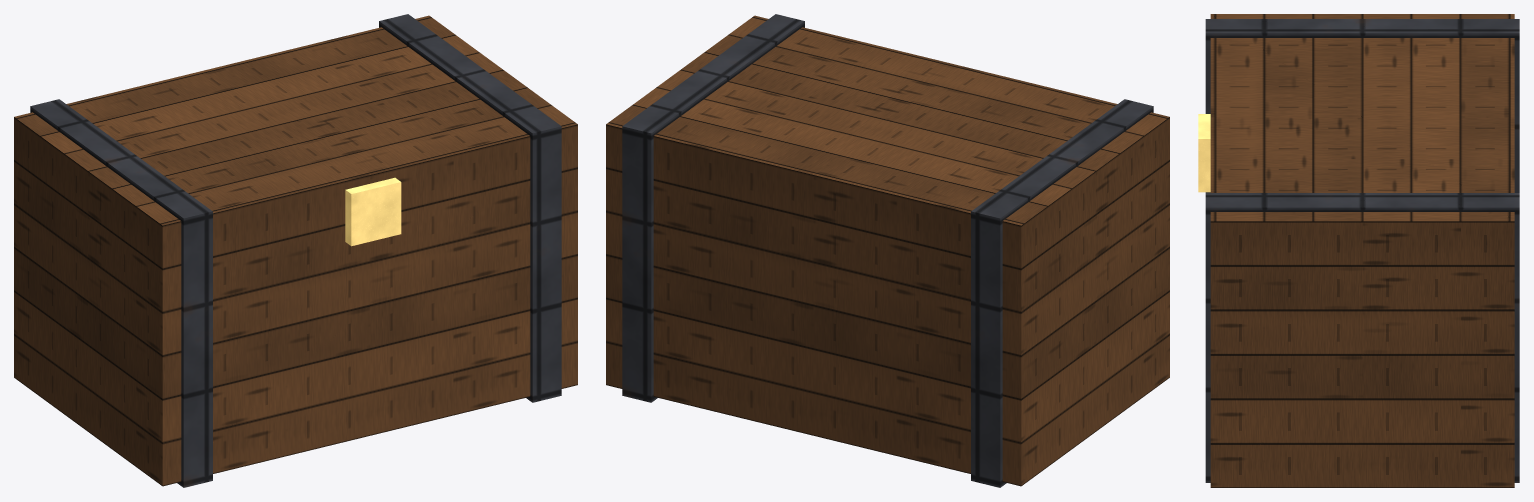
File: chest.glb
3 renders of one model, left to right at view 1: azimuth 30°, elevation 25°; view 2: azimuth 150°, elevation 25°; view 3: azimuth 270°, elevation 25°, orthographic. The views are drawn at different scales.
Parts seen in each view (by area): view 1: chest; view 2: chest; view 3: chest.
Boxes of the visible parts, x1,y1,x2,y2 form: chest: [14, 14, 577, 487]; chest: [606, 14, 1169, 487]; chest: [1198, 14, 1519, 487].
Bounding box in the file's own units: 1 × 0.62 × 0.655.
Materials: 3 (3 with a texture image).
